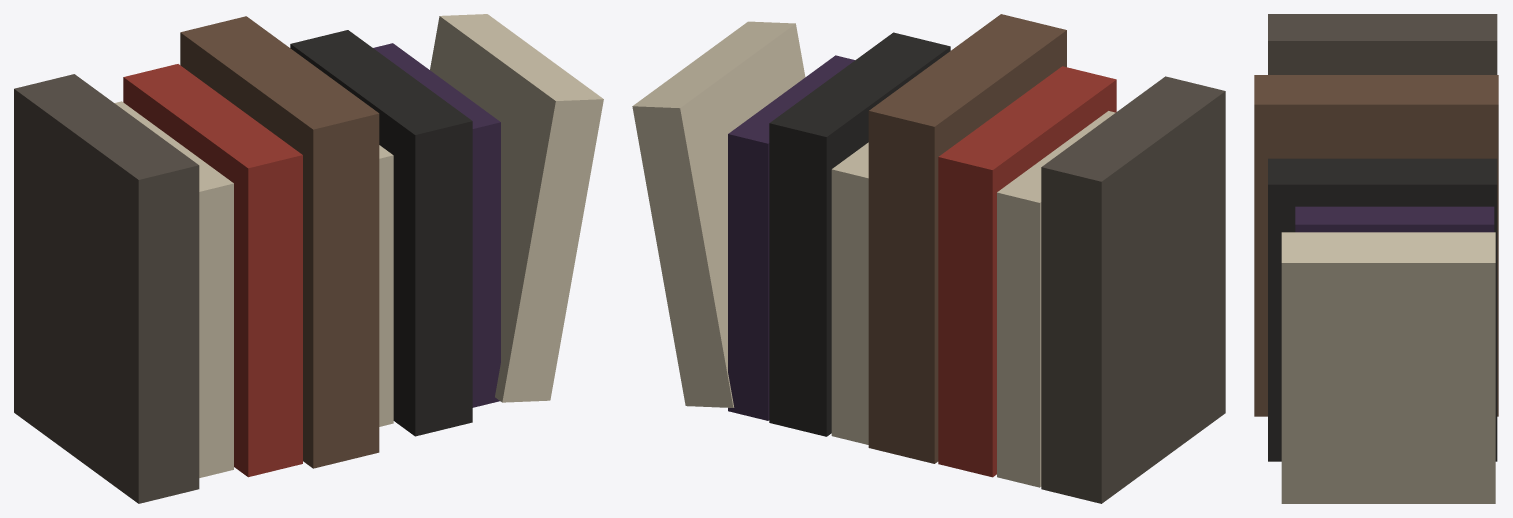
The model's file is book-row.glb.
3 views of the same model, side by side, from view 1: azimuth 30°, elevation 25°; view 2: azimuth 150°, elevation 25°; view 3: azimuth 270°, elevation 25° (orthographic). The views are drawn at different scales.
Visible parts, largest first — view 1: fabric, paper, wood, plastic-dark, accent-warm, accent-purple; view 2: fabric, paper, wood, accent-warm, plastic-dark, accent-purple; view 3: paper, wood, plastic-dark, fabric, accent-purple.
Boxes of the visible parts, bbox=[...] form: fabric: bbox=[14, 74, 199, 503]; paper: bbox=[114, 14, 603, 477]; wood: bbox=[180, 16, 379, 468]; plastic-dark: bbox=[290, 30, 472, 436]; accent-warm: bbox=[123, 64, 302, 477]; accent-purple: bbox=[373, 43, 500, 407]; fabric: bbox=[1041, 76, 1225, 503]; paper: bbox=[632, 21, 1115, 487]; wood: bbox=[868, 14, 1066, 463]; accent-warm: bbox=[938, 66, 1116, 477]; plastic-dark: bbox=[769, 32, 950, 436]; accent-purple: bbox=[728, 55, 854, 420]; paper: bbox=[1281, 232, 1495, 503]; wood: bbox=[1254, 75, 1498, 416]; plastic-dark: bbox=[1268, 158, 1497, 461]; fabric: bbox=[1268, 14, 1497, 74]; accent-purple: bbox=[1295, 206, 1494, 232].
Bounding box in the file's own units: 0.3283 × 0.228 × 0.16.
